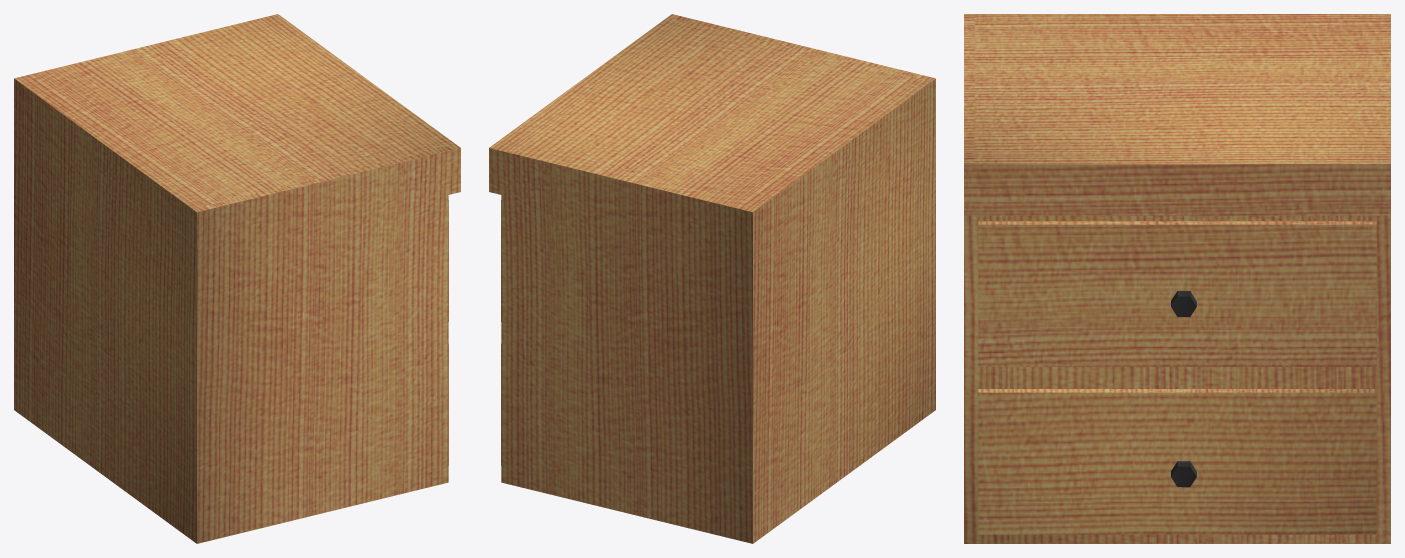
File: NIGHT_TABLE_01.fbx
The picture shows the model from 3 angles, left to right: view 1: azimuth 30°, elevation 25°; view 2: azimuth 150°, elevation 25°; view 3: azimuth 270°, elevation 25°; orthographic projection. The views are drawn at different scales.
Parts seen in each view (by area): view 1: NIGHT_TABLE_01; view 2: NIGHT_TABLE_01; view 3: NIGHT_TABLE_01.
Part boxes in pixels (x1,y1,x2,y2): NIGHT_TABLE_01: (14,14,460,543); NIGHT_TABLE_01: (489,14,935,543); NIGHT_TABLE_01: (964,14,1390,543).
Size of the model in its own units: 46.46 by 55.04 by 55.04.
